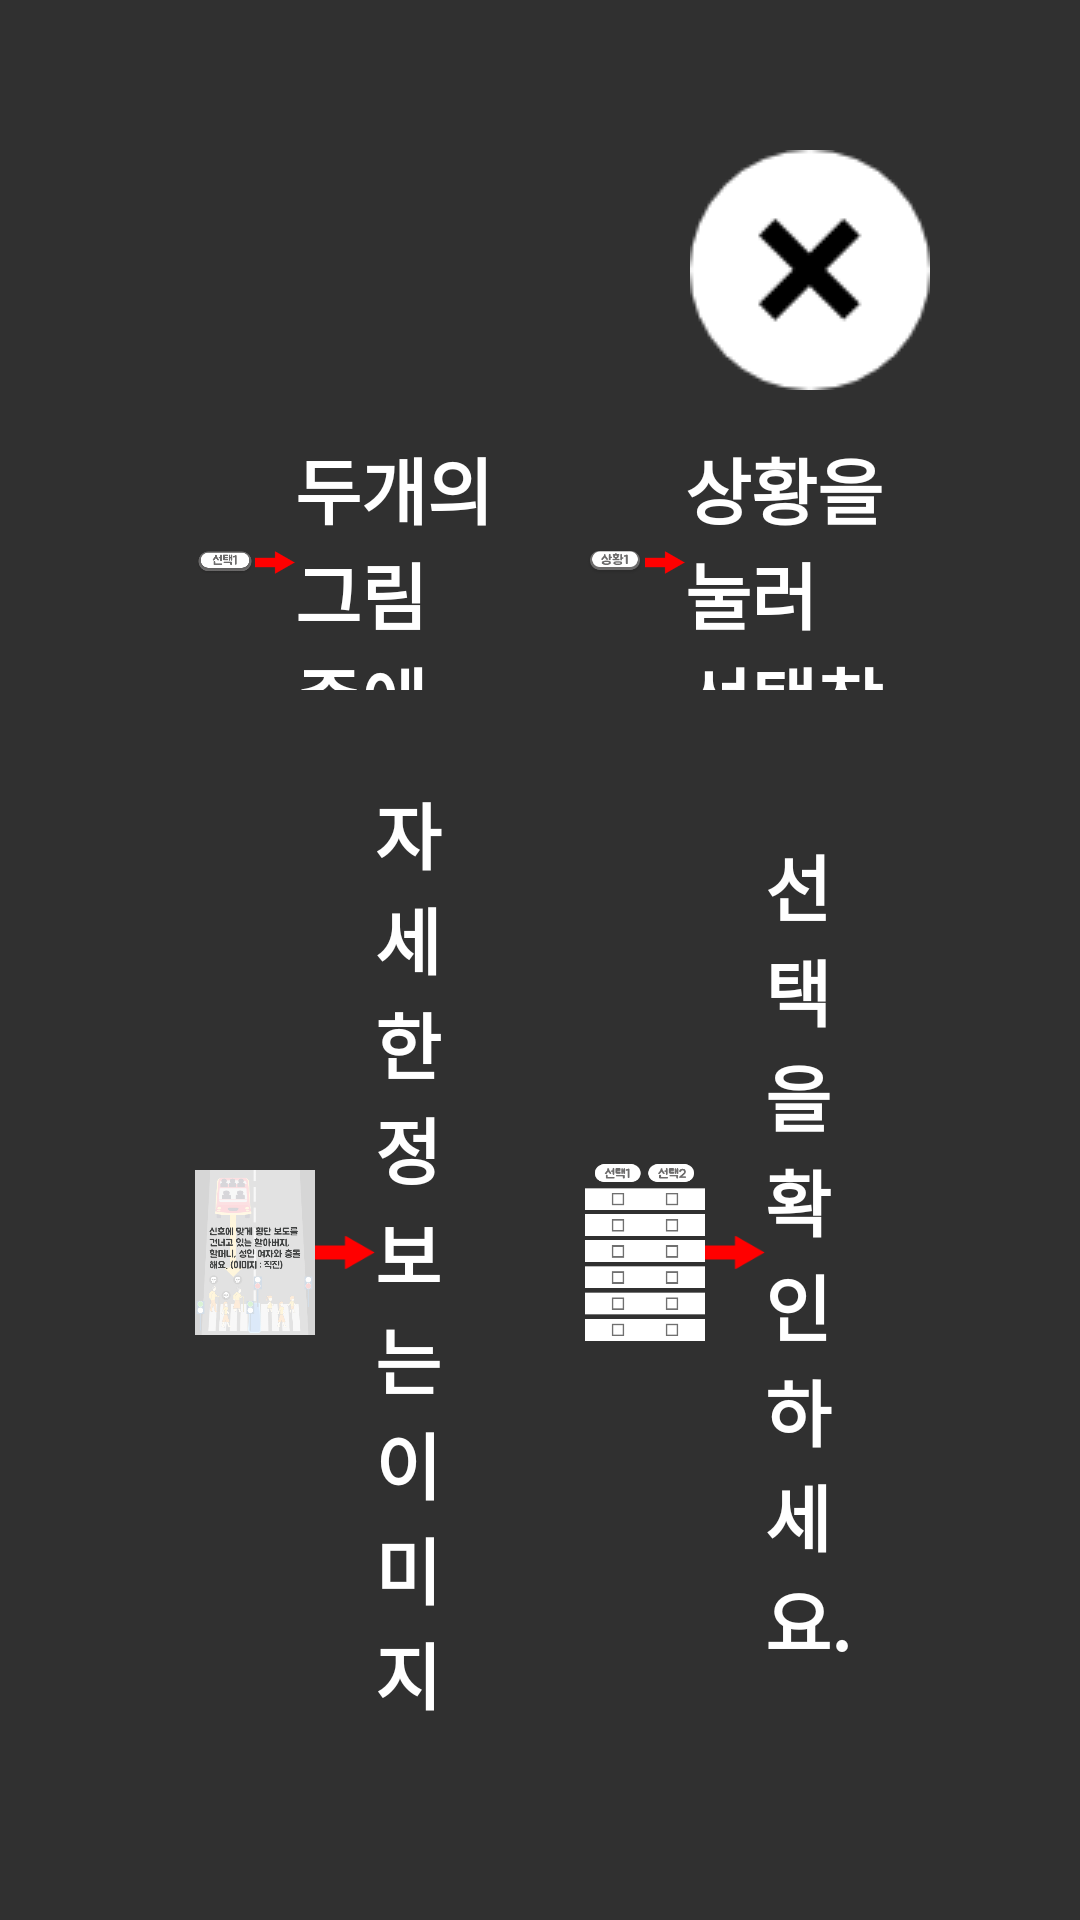

Icon click points for this 1080x1920 phone screenshot, format point (x, y):
moral dialog cl: point (810, 270)
